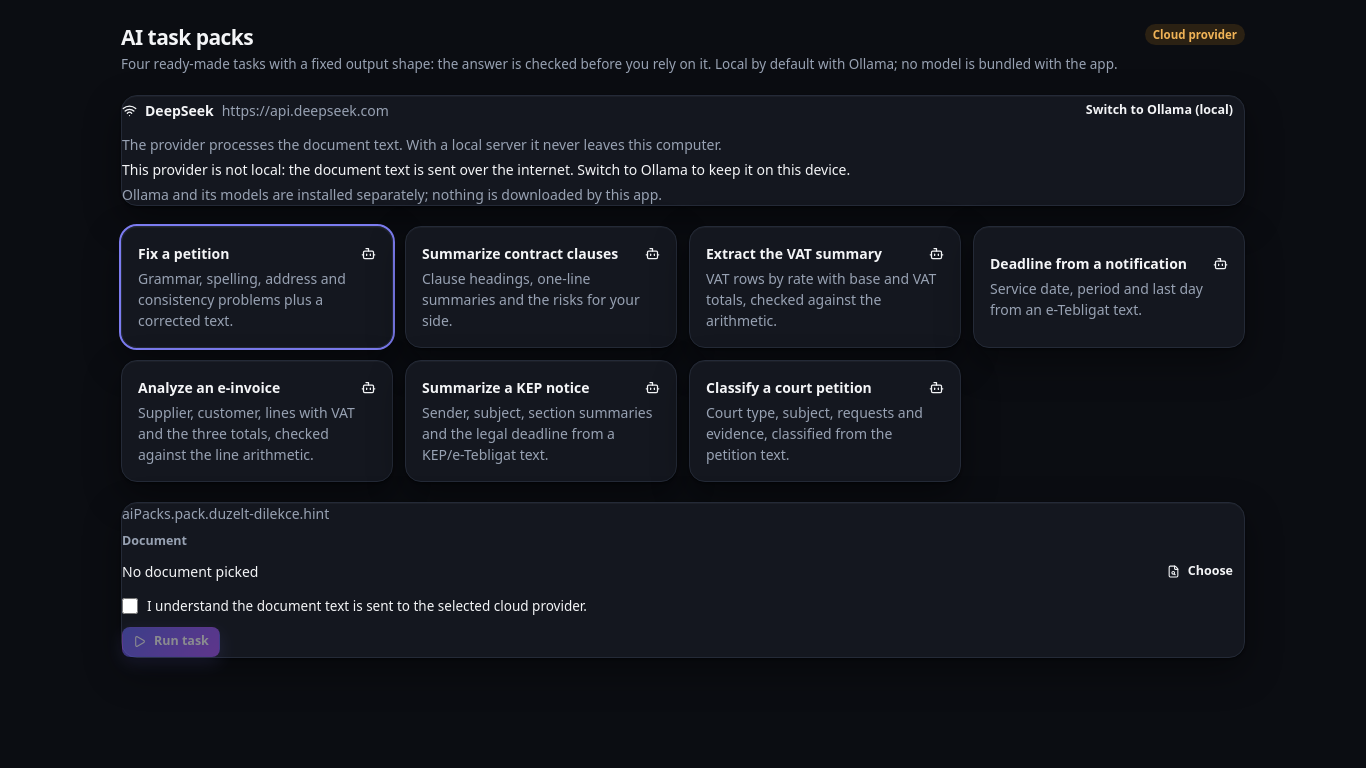
Test: AiPacks (C7) › offers switching a cloud provider to the local Ollama preset
This screenshot has width=1366, height=768.
Expected: the text "Cloud provider" is shown, x1=1145 y1=24 x2=1245 y2=45
Click the button "Switch to Ollama (local)" at (1159, 110), box x1=1075 y1=96 x2=1244 y2=126
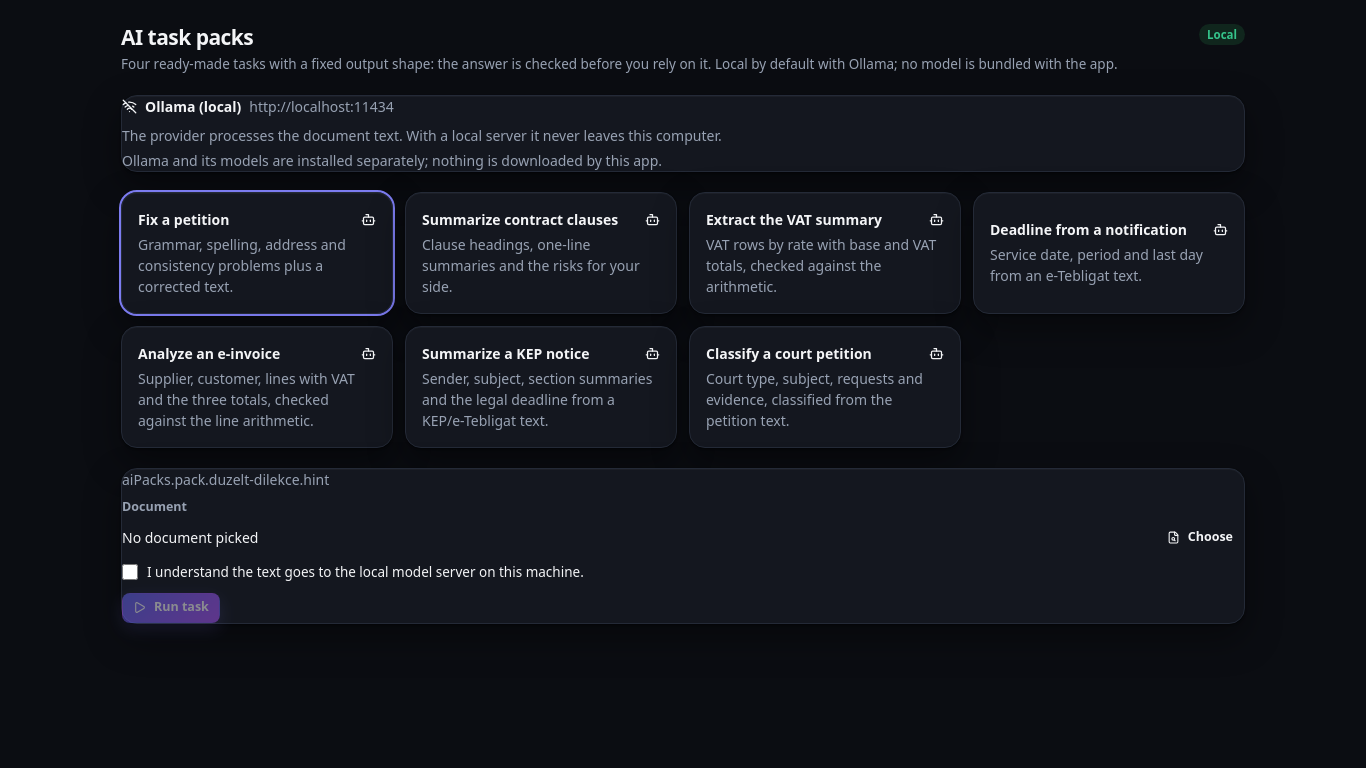
Result: the text "Local" is shown at x1=1199 y1=24 x2=1245 y2=45
